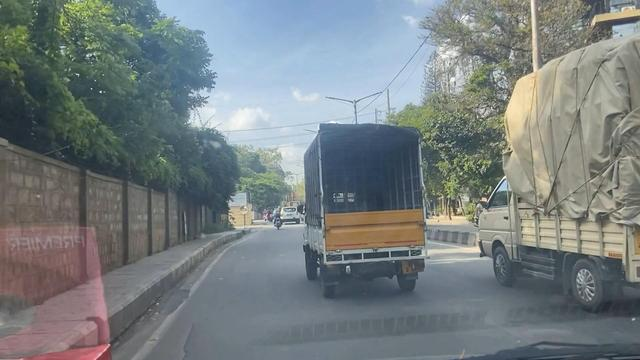HMV: (469, 35, 640, 308), (296, 116, 437, 302)
